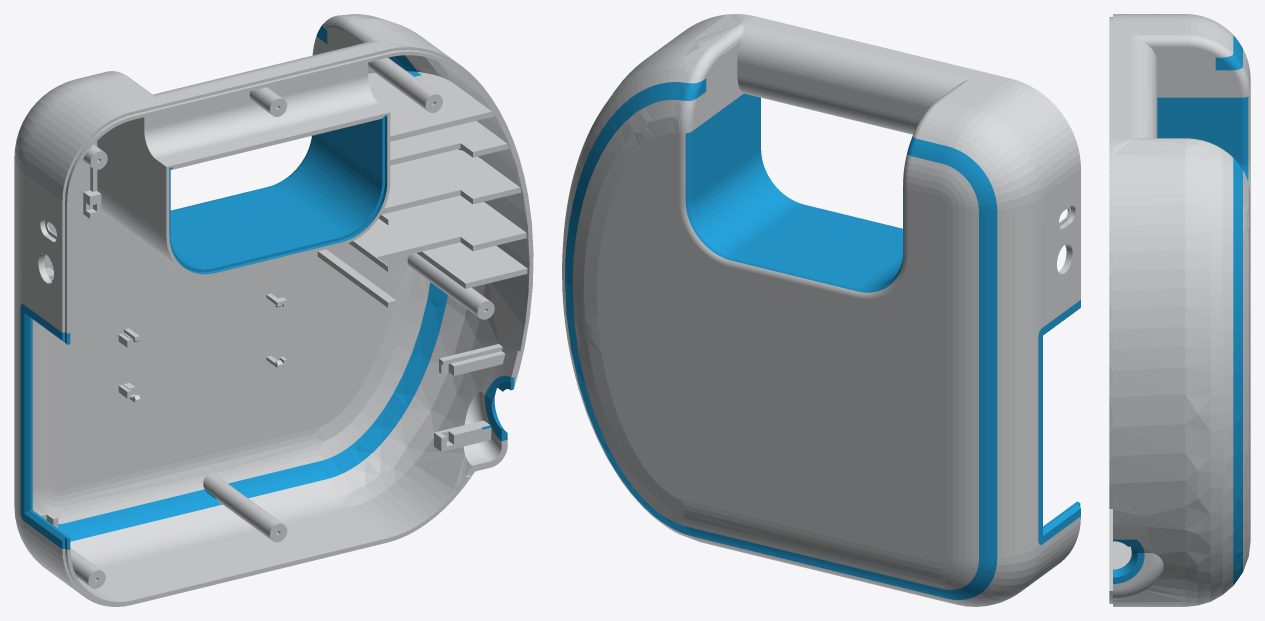
The model's file is ARC22_LEFT.obj.
3 renders of one model, left to right at view 1: azimuth 30°, elevation 25°; view 2: azimuth 150°, elevation 25°; view 3: azimuth 270°, elevation 25°, orthographic. The views are drawn at different scales.
Visible parts, largest first — view 1: ARC22_LEFT_WHITE, ARC22_LEFT_BLUE; view 2: ARC22_LEFT_WHITE, ARC22_LEFT_BLUE; view 3: ARC22_LEFT_WHITE, ARC22_LEFT_BLUE.
Boxes of the visible parts, left/top/right/bottom form: ARC22_LEFT_WHITE: left=14, top=14, right=533, bottom=606; ARC22_LEFT_BLUE: left=20, top=25, right=514, bottom=549; ARC22_LEFT_WHITE: left=562, top=14, right=1080, bottom=606; ARC22_LEFT_BLUE: left=565, top=78, right=1080, bottom=599; ARC22_LEFT_WHITE: left=1109, top=14, right=1250, bottom=606; ARC22_LEFT_BLUE: left=1113, top=35, right=1248, bottom=585.
Bounding box in the file's own units: 218 × 218 × 60.6.
